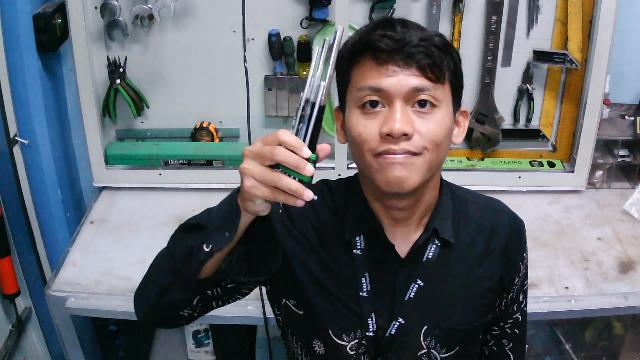kunci_l: (265, 23, 348, 216)
